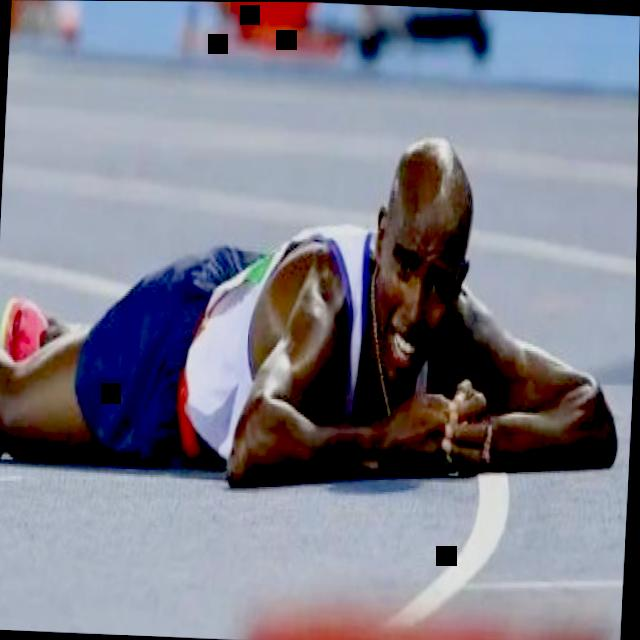Fall-Detected: (0, 105, 639, 499)
